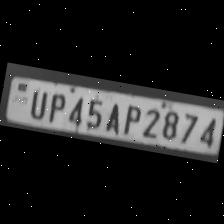2: (138, 103, 162, 139)
4: (194, 111, 220, 146), (63, 92, 85, 125)
5: (82, 94, 106, 130)
7: (176, 108, 198, 144)
8: (156, 106, 180, 140)
A: (101, 96, 124, 132)
P: (44, 88, 68, 122), (119, 100, 142, 135)
U: (24, 85, 49, 119)
